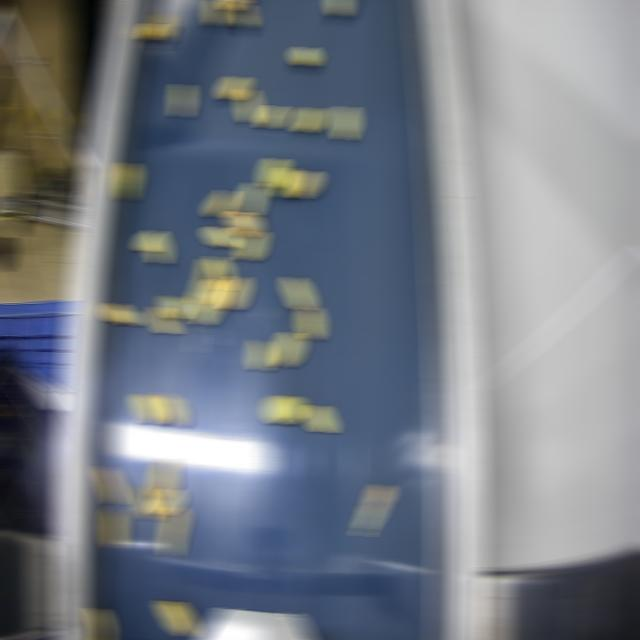Baby Potato: (159, 592, 195, 640), (357, 484, 390, 536), (192, 279, 225, 325), (192, 259, 217, 303), (265, 395, 302, 424), (163, 506, 184, 556), (138, 229, 167, 263), (274, 331, 301, 367), (97, 466, 122, 504), (151, 458, 174, 497), (221, 275, 246, 310), (134, 393, 163, 423), (285, 276, 310, 310), (158, 392, 183, 426), (291, 169, 318, 199), (227, 211, 258, 237), (150, 488, 179, 515), (104, 508, 123, 548), (104, 303, 137, 326), (238, 231, 263, 261), (118, 162, 137, 200), (307, 405, 332, 433), (207, 189, 232, 217), (241, 182, 262, 215), (153, 305, 176, 334), (336, 105, 355, 140), (137, 485, 156, 520), (239, 88, 258, 123), (275, 167, 296, 198), (295, 106, 320, 132), (301, 306, 320, 340), (210, 256, 229, 290), (262, 158, 284, 187), (221, 75, 246, 100), (161, 296, 188, 319), (251, 339, 270, 370), (173, 83, 190, 117), (90, 609, 109, 639), (152, 12, 171, 42), (207, 226, 234, 247), (260, 104, 283, 128), (293, 46, 316, 66), (208, 0, 225, 26), (235, 4, 252, 28), (140, 23, 159, 40), (330, 0, 347, 16), (223, 0, 246, 10)
